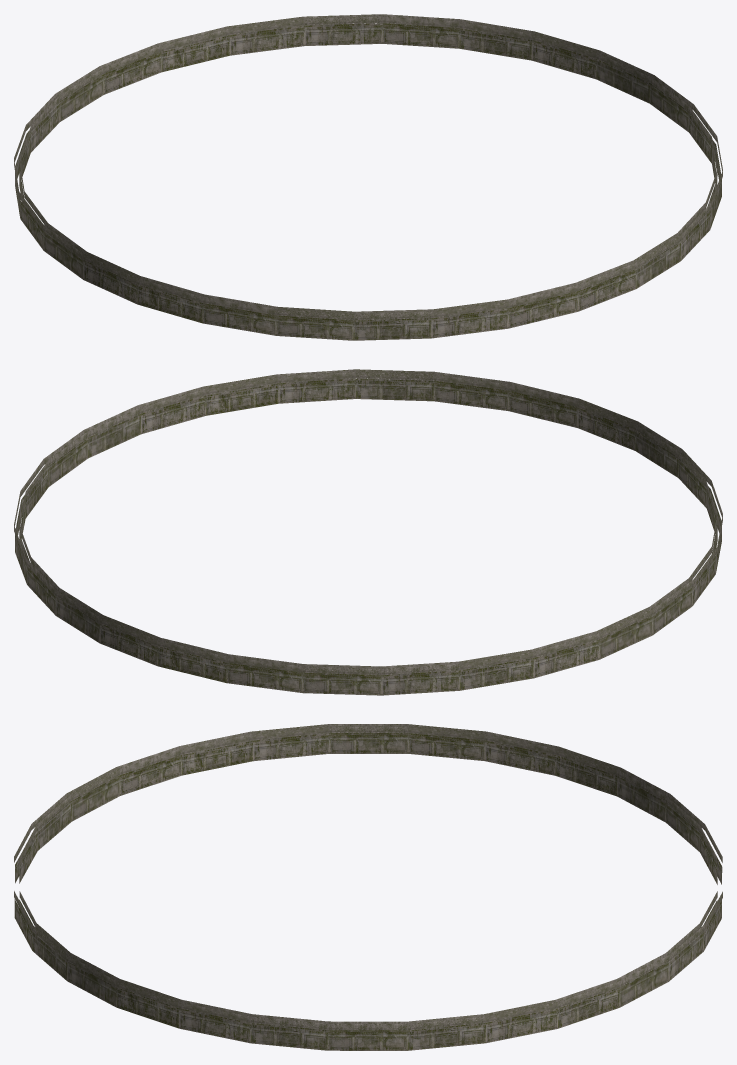
The model's file is Greenhouse_Body04.FBX.
3 renders of one model, top to bottom at view 1: azimuth 30°, elevation 25°; view 2: azimuth 150°, elevation 25°; view 3: azimuth 270°, elevation 25°, orthographic.
Parts seen in each view (by area): view 1: Greenhouse_Body04; view 2: Greenhouse_Body04; view 3: Greenhouse_Body04.
Boxes of the visible parts, bbox=[...] form: Greenhouse_Body04: bbox=[14, 14, 722, 340]; Greenhouse_Body04: bbox=[14, 369, 722, 695]; Greenhouse_Body04: bbox=[14, 724, 722, 1050].
Bounding box in the file's own units: 8430 × 360 × 8423.
